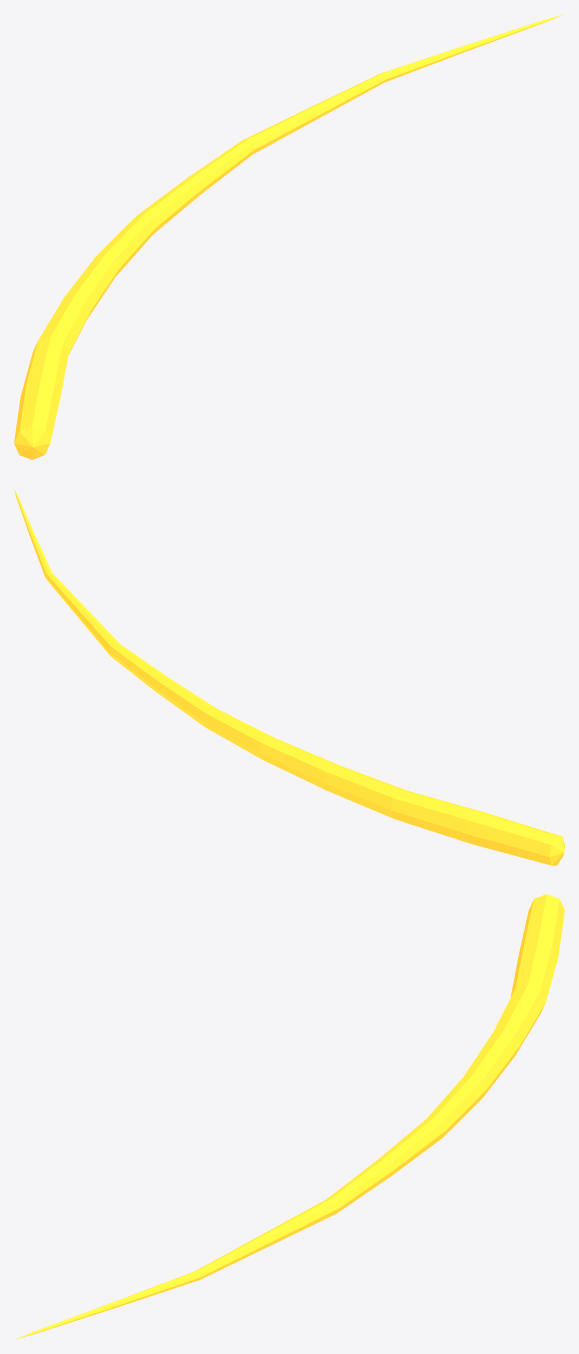
The model's file is spinner.glb.
3 renders of one model, top to bottom at view 1: azimuth 90°, elevation 25°; view 2: azimuth 150°, elevation 25°; view 3: azimuth 270°, elevation 25°, orthographic. The views are drawn at different scales.
Parts seen in each view (by area): view 1: main; view 2: main; view 3: main.
Boxes of the visible parts, x1=… form: main: x1=14, y1=14, x2=563, y2=459; main: x1=14, y1=489, x2=564, y2=865; main: x1=15, y1=894, x2=564, y2=1339.
Bounding box in the file's own units: 0.1163 × 0.00454 × 0.0625.
